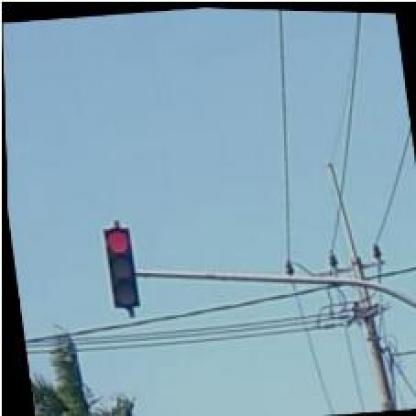red: (101, 225, 137, 310)
